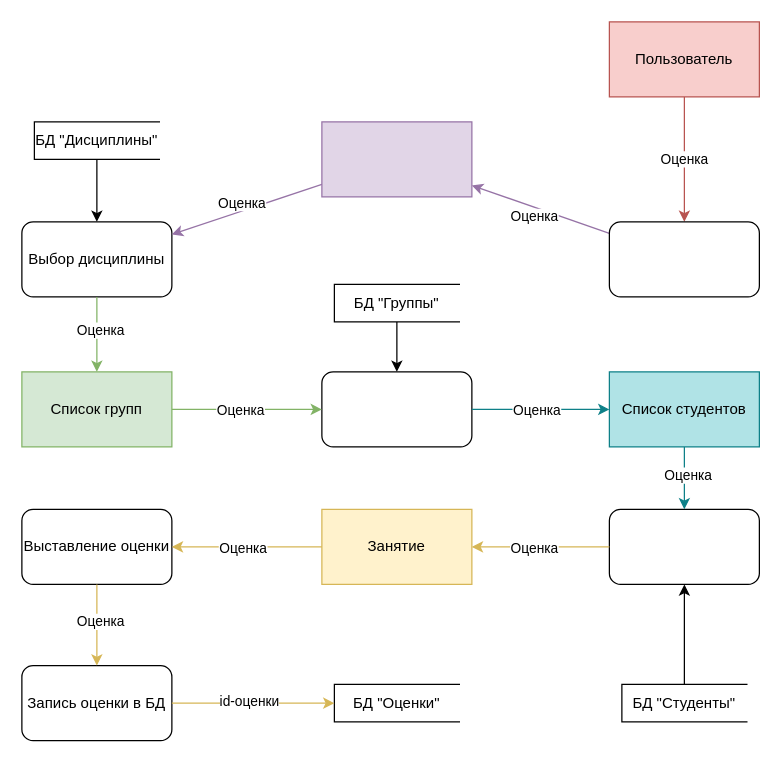
Some shapes in this 781 by 763 pixel diagram are drawn without their labels. The shapes that lost their labels are listed below. From the top down, each one's centre as x and y in pixels, then its label:
point 396,159: Список дисциплин
point 683,259: Вход в систему
point 396,409: Выбор группы
point 683,546: Выбор студента
